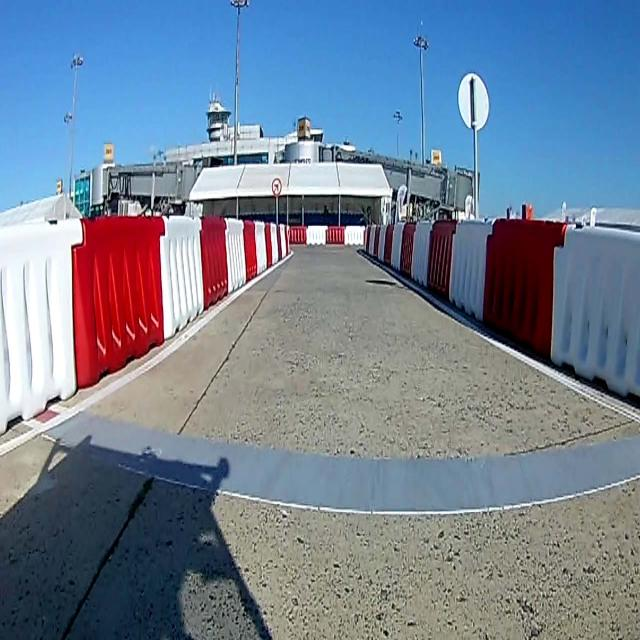soladonulmez: (271, 178, 282, 192)
